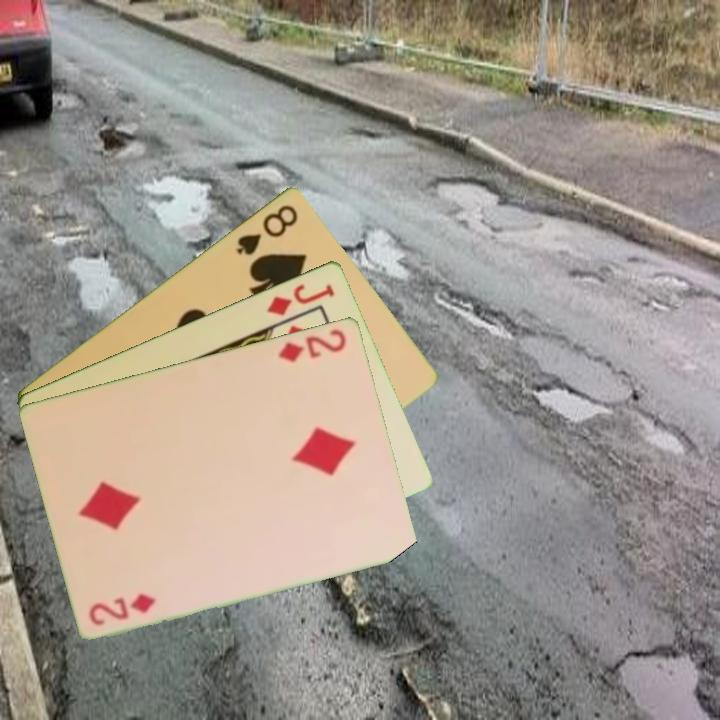2d: (275, 325, 349, 365), (85, 589, 159, 628)
8s: (232, 200, 301, 258)
Jd: (264, 279, 338, 318)
